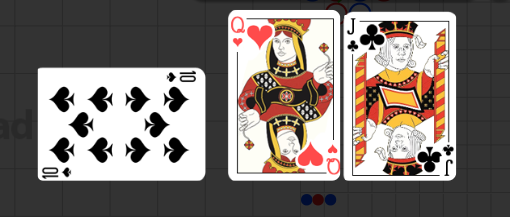10S: (164, 69, 198, 84), (41, 165, 74, 179)
JC: (344, 17, 360, 54)
